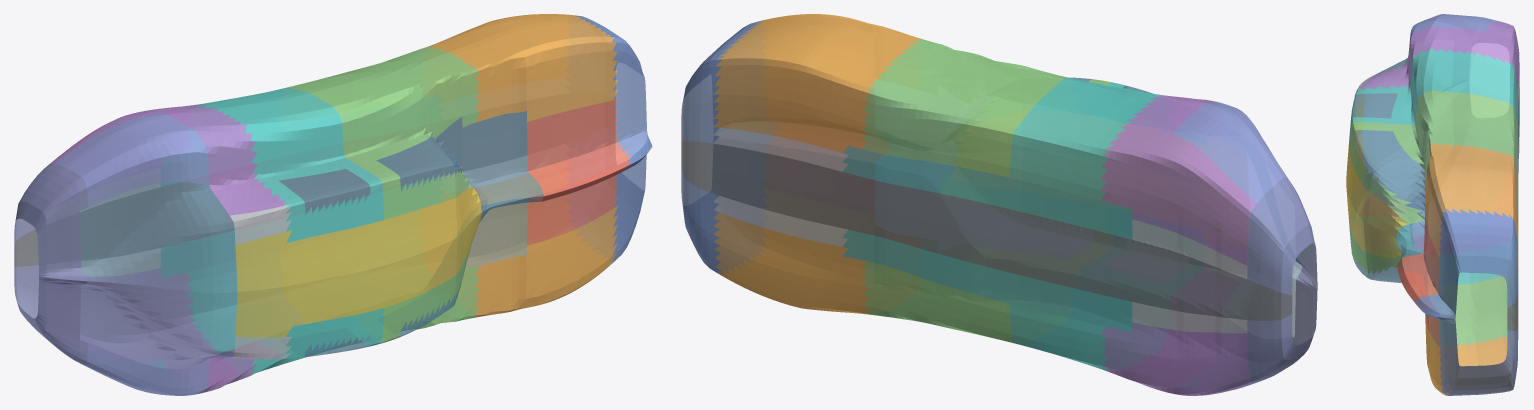
File: modern_car_v2_aero_surface_partition.glb
3 views of the same model, side by side, from view 1: azimuth 30°, elevation 25°; view 2: azimuth 150°, elevation 25°; view 3: azimuth 270°, elevation 25° (orthographic). The views are drawn at different scales.
Visible parts, largest first — view 1: aperture_rear_glass, panel_roof, panel_underbody, panel_front_door_right, panel_front_fender_right, panel_front_fender_left, panel_rear_door_right, panel_rear_hatch, panel_rear_quarter_left, panel_hood, panel_rear_bumper, aperture_windshield (+10 smaller); view 2: panel_underbody, panel_front_fender_right, panel_front_door_right, panel_rear_quarter_right, panel_rear_door_right, panel_rear_bumper, panel_front_fender_left, panel_fixed_body, panel_rocker_right, panel_rocker_left, panel_rear_quarter_left, panel_front_door_left (+5 smaller); view 3: panel_front_bumper, panel_front_door_right, panel_front_fender_right, panel_rear_door_right, panel_front_door_left, panel_rear_quarter_right, aperture_rear_glass, panel_roof, aperture_front_side_glass_right, panel_hood, panel_front_fender_left, panel_rear_hatch (+7 smaller).
Boxes of the visible parts, x1=… form: aperture_rear_glass: x1=80, y1=182, x2=237, y2=369; panel_roof: x1=235, y1=187, x2=481, y2=337; panel_underbody: x1=14, y1=111, x2=527, y2=266; panel_front_door_right: x1=287, y1=45, x2=480, y2=219; panel_front_fender_right: x1=429, y1=14, x2=617, y2=122; panel_front_fender_left: x1=465, y1=173, x2=618, y2=317; panel_rear_door_right: x1=194, y1=87, x2=383, y2=242; panel_rear_hatch: x1=55, y1=113, x2=209, y2=395; panel_rear_quarter_left: x1=80, y1=268, x2=257, y2=391; panel_hood: x1=527, y1=99, x2=632, y2=245; panel_rear_bumper: x1=14, y1=163, x2=87, y2=364; aperture_windshield: x1=462, y1=111, x2=543, y2=268; panel_underbody: x1=681, y1=141, x2=1292, y2=320; panel_front_fender_right: x1=713, y1=14, x2=922, y2=152; panel_front_door_right: x1=862, y1=39, x2=1112, y2=177; panel_rear_quarter_right: x1=1100, y1=94, x2=1256, y2=265; panel_rear_door_right: x1=1010, y1=78, x2=1172, y2=200; panel_rear_bumper: x1=1247, y1=177, x2=1317, y2=382; panel_front_fender_left: x1=713, y1=212, x2=870, y2=314; panel_fixed_body: x1=713, y1=127, x2=1247, y2=333; panel_rocker_right: x1=842, y1=145, x2=1132, y2=239; panel_rocker_left: x1=842, y1=230, x2=1132, y2=332; panel_rear_quarter_left: x1=1100, y1=322, x2=1255, y2=395; panel_front_door_left: x1=862, y1=261, x2=1012, y2=342; panel_front_bumper: x1=1414, y1=209, x2=1518, y2=395; panel_front_door_right: x1=1349, y1=90, x2=1517, y2=223; panel_front_fender_right: x1=1425, y1=142, x2=1518, y2=268; panel_rear_door_right: x1=1349, y1=48, x2=1517, y2=151; panel_front_door_left: x1=1349, y1=225, x2=1507, y2=345; panel_rear_quarter_right: x1=1359, y1=21, x2=1519, y2=93; aperture_rear_glass: x1=1362, y1=56, x2=1426, y2=201; panel_roof: x1=1346, y1=97, x2=1408, y2=257; aperture_front_side_glass_right: x1=1353, y1=130, x2=1426, y2=216; panel_hood: x1=1397, y1=214, x2=1440, y2=345; panel_front_fender_left: x1=1425, y1=318, x2=1507, y2=395; panel_rear_hatch: x1=1408, y1=14, x2=1499, y2=236.
Bounding box in the file's own units: 4.34 × 1.82 × 1.33.
